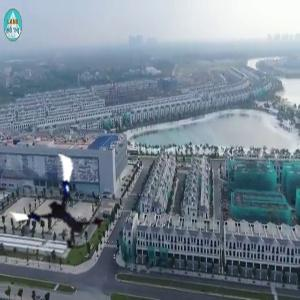drone: (11, 163, 107, 259)
